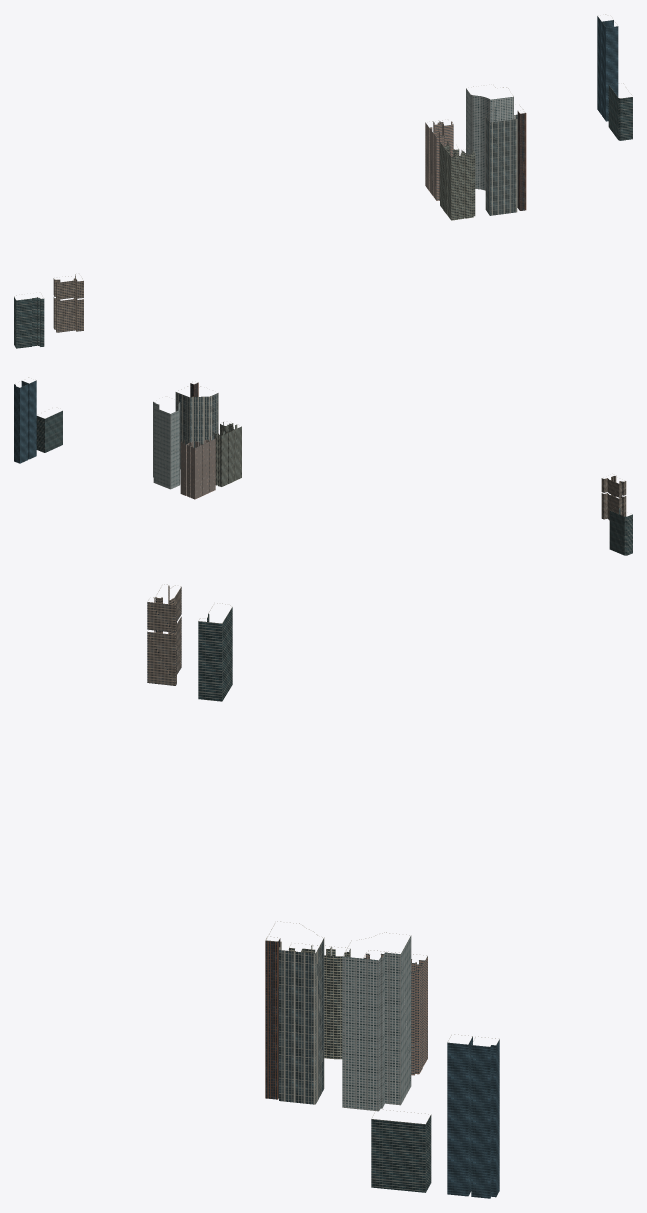
The picture shows the model from 3 angles, top to bottom: view 1: azimuth 30°, elevation 25°; view 2: azimuth 150°, elevation 25°; view 3: azimuth 270°, elevation 25°; orthographic projection. The views are drawn at different scales.
Parts seen in each view (by area): view 1: LimestonePiers, HorizontalLouvers, RecessedBalconies, SilverPrecastOffice, BlueSpandrels, PairedWindows, TerracottaOfficeGrid, ClayFins; view 2: SilverPrecastOffice, TerracottaOfficeGrid, LimestonePiers, HorizontalLouvers, BlueSpandrels, RecessedBalconies, PairedWindows; view 3: SilverPrecastOffice, BlueSpandrels, LimestonePiers, HorizontalLouvers, PairedWindows, ClayFins, RecessedBalconies, TerracottaOfficeGrid.
Part boxes in pixels (bbox=[...]): LimestonePiers: bbox=[485, 107, 517, 215]; HorizontalLouvers: bbox=[14, 85, 632, 348]; RecessedBalconies: bbox=[440, 141, 475, 220]; SilverPrecastOffice: bbox=[466, 88, 513, 190]; BlueSpandrels: bbox=[597, 16, 618, 121]; PairedWindows: bbox=[53, 274, 83, 332]; TerracottaOfficeGrid: bbox=[425, 121, 453, 200]; ClayFins: bbox=[517, 111, 526, 210]; SilverPrecastOffice: bbox=[153, 402, 180, 489]; TerracottaOfficeGrid: bbox=[180, 437, 215, 499]; LimestonePiers: bbox=[175, 392, 218, 468]; HorizontalLouvers: bbox=[36, 410, 632, 555]; BlueSpandrels: bbox=[14, 380, 36, 463]; RecessedBalconies: bbox=[214, 422, 241, 486]; PairedWindows: bbox=[601, 476, 626, 520]; SilverPrecastOffice: bbox=[342, 936, 411, 1111]; BlueSpandrels: bbox=[447, 1037, 499, 1198]; LimestonePiers: bbox=[266, 938, 324, 1104]; HorizontalLouvers: bbox=[198, 607, 431, 1192]; PairedWindows: bbox=[147, 585, 181, 685]; ClayFins: bbox=[265, 938, 280, 1099]; RecessedBalconies: bbox=[289, 945, 350, 1059]; TerracottaOfficeGrid: bbox=[363, 952, 427, 1075].
Size of the model in its own units: 1578 by 237 by 438.
9 materials, 9 textured.
